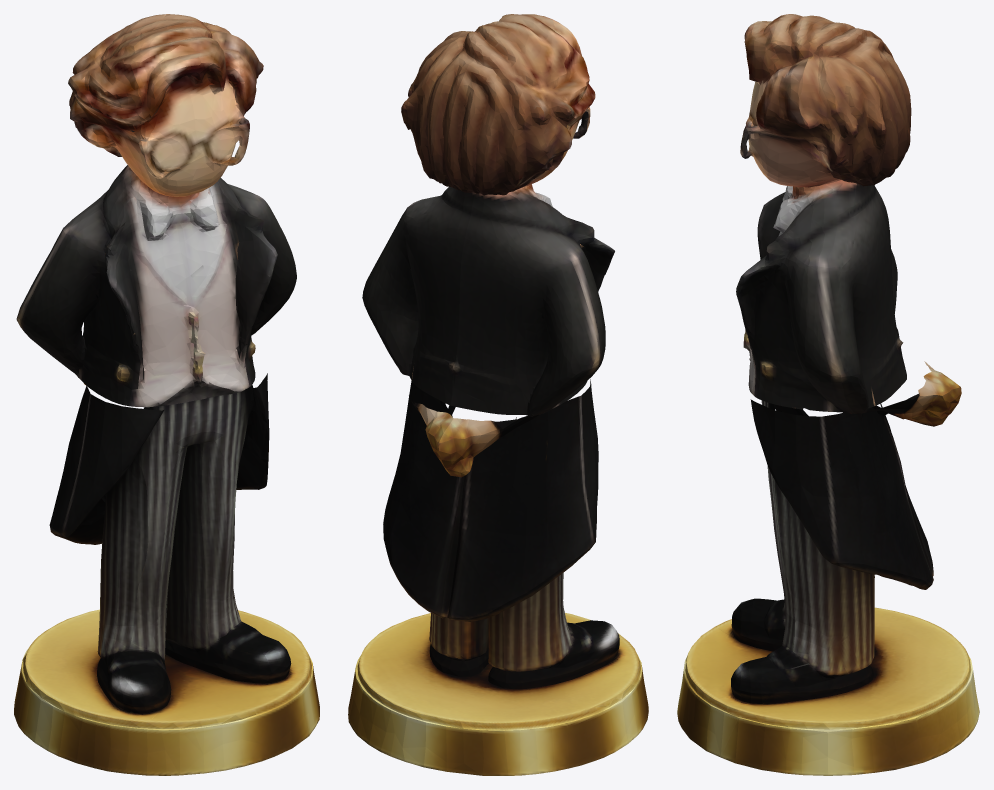
The picture shows the model from 3 angles, left to right: view 1: azimuth 30°, elevation 25°; view 2: azimuth 150°, elevation 25°; view 3: azimuth 270°, elevation 25°; orthographic projection.
Parts seen in each view (by area): view 1: world; view 2: world; view 3: world.
Boxes of the visible parts, left/top/right/bottom form: world: left=14, top=14, right=319, bottom=775; world: left=348, top=14, right=648, bottom=775; world: left=677, top=14, right=979, bottom=775.
Bounding box in the file's own units: 0.3995 × 1 × 0.3986.
1 material, 1 textured.
